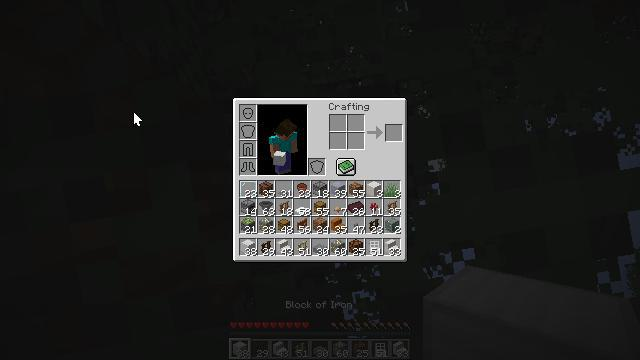cursor: (111, 133, 127, 143)
